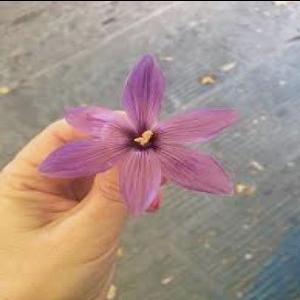Saffron: (42, 59, 235, 212)
